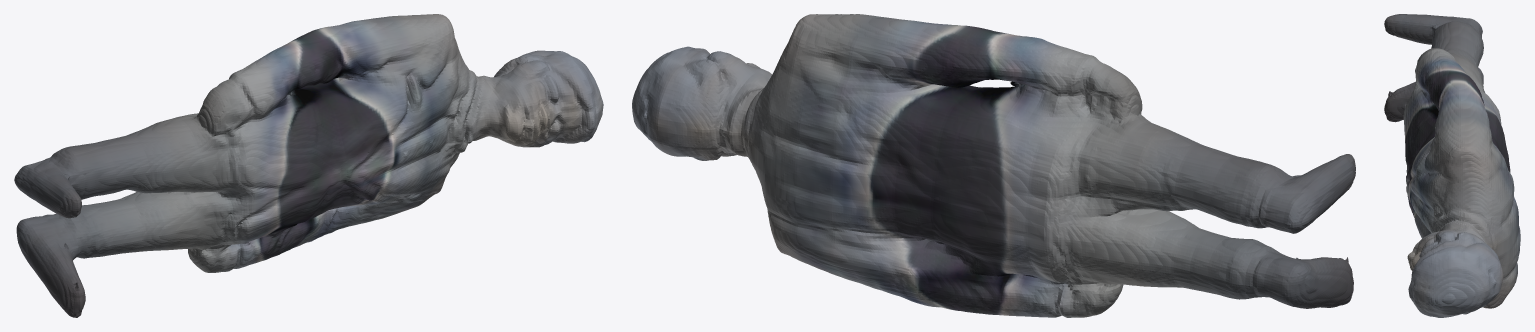
File: hyunsik.glb
The picture shows the model from 3 angles, left to right: view 1: azimuth 30°, elevation 25°; view 2: azimuth 150°, elevation 25°; view 3: azimuth 270°, elevation 25°; orthographic projection. The views are drawn at different scales.
Visible parts, largest first — view 1: world; view 2: world; view 3: world.
Boxes of the visible parts, x1,y1,x2,y2 form: world: [14, 14, 603, 317]; world: [632, 14, 1355, 317]; world: [1384, 14, 1520, 317].
Size of the model in its own units: 0.9928 by 0.3675 by 0.2408.
